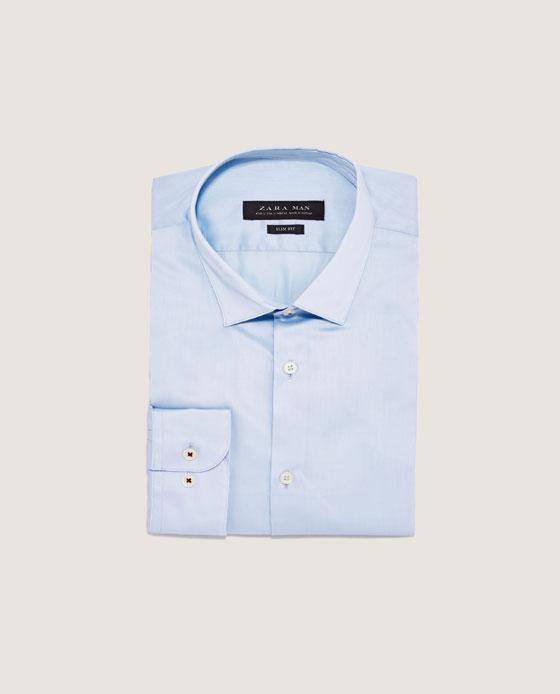teeshirt: (141, 143, 422, 545)
